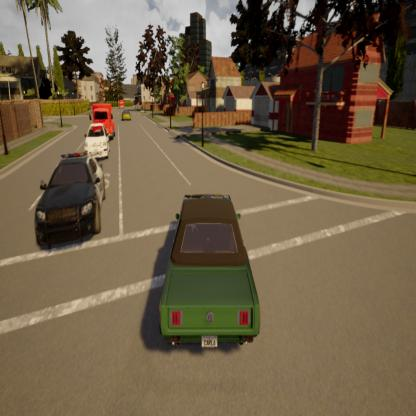Cars: (141, 154, 290, 374), (29, 136, 112, 264), (76, 112, 120, 180), (81, 87, 117, 146), (116, 99, 134, 132)
